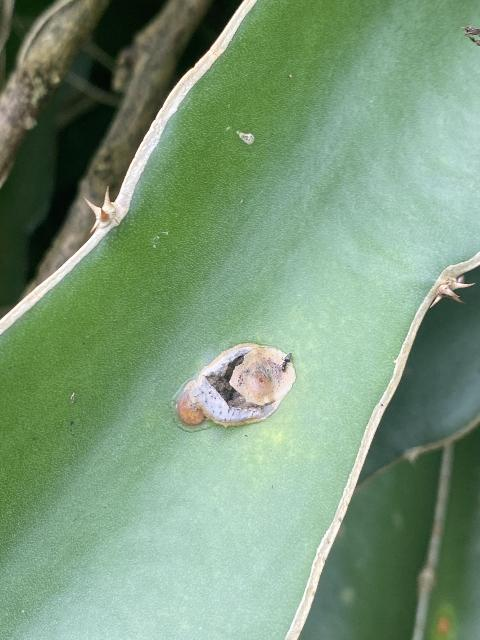stemcanker: (162, 333, 304, 434)
